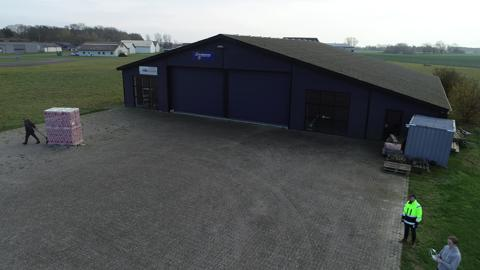RockwoolPallet: (43, 107, 85, 147)
